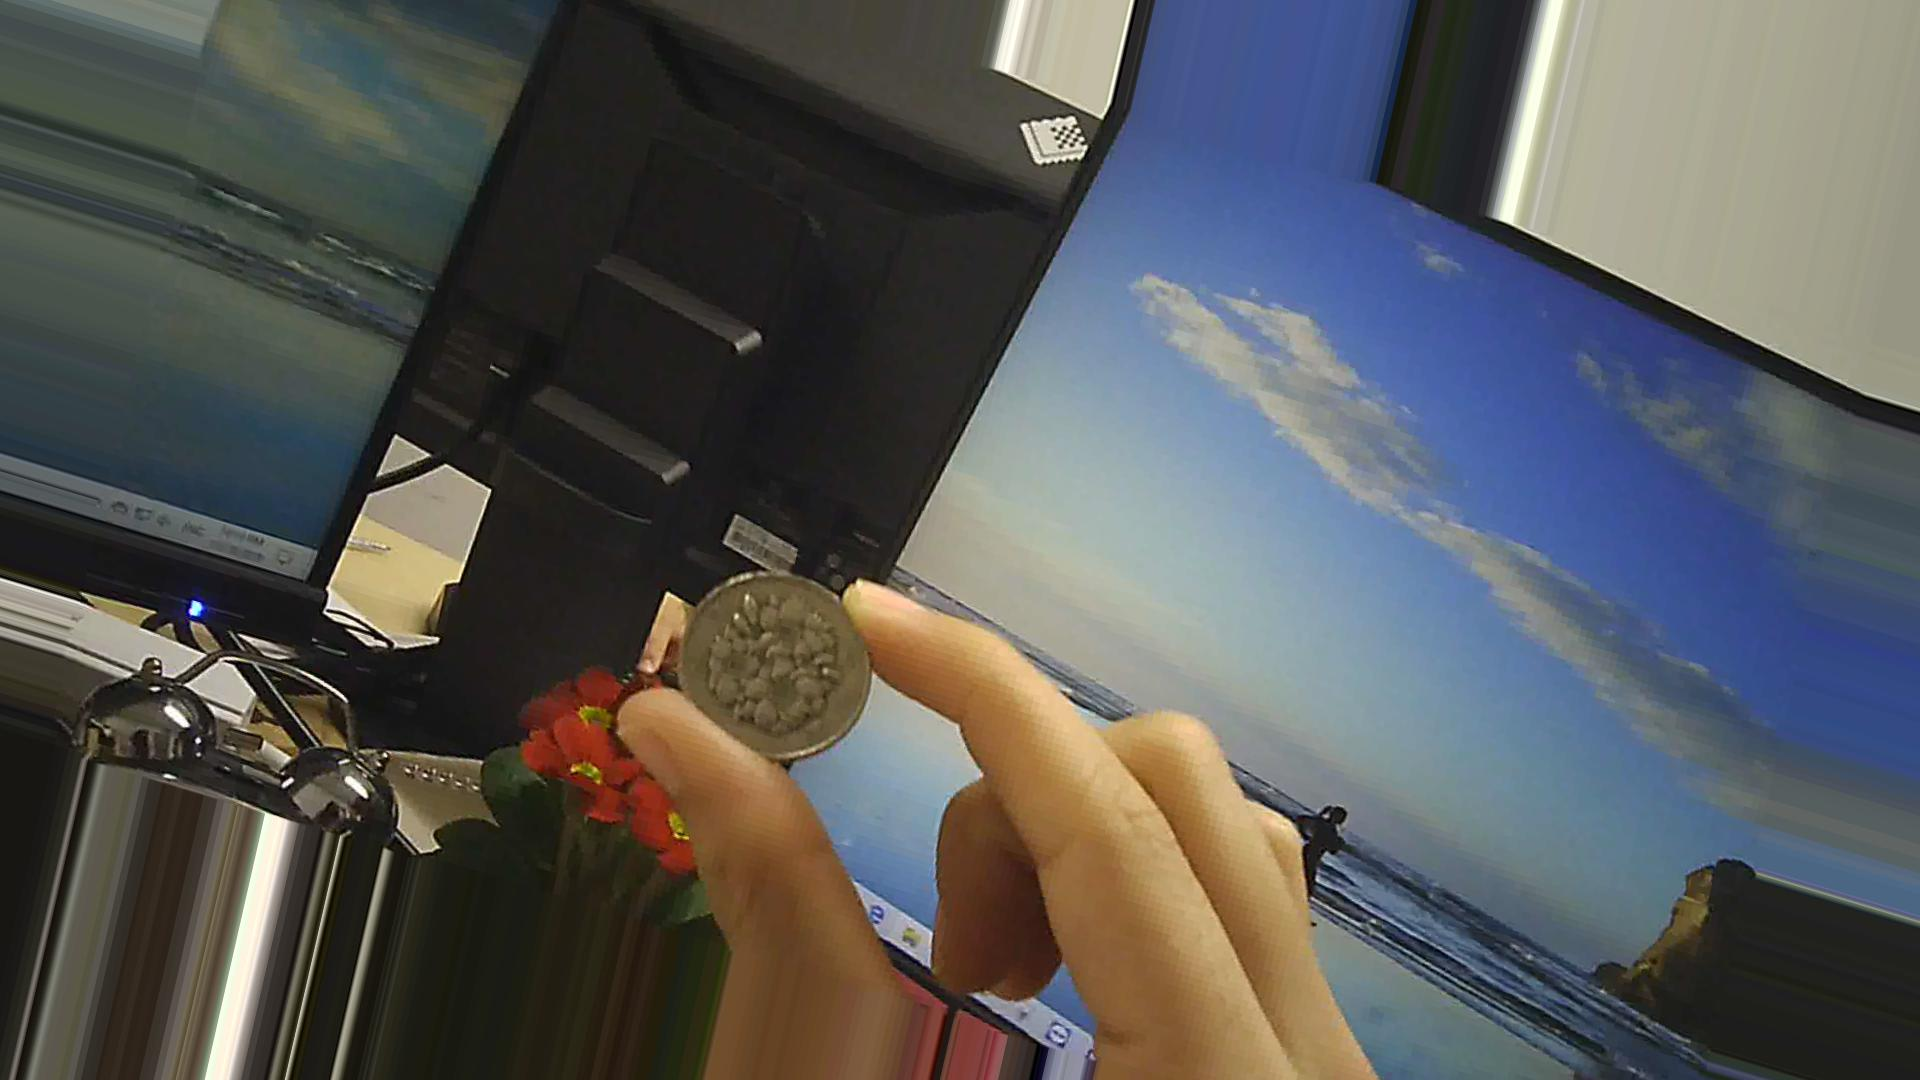100 Yen: (684, 570, 861, 753)
